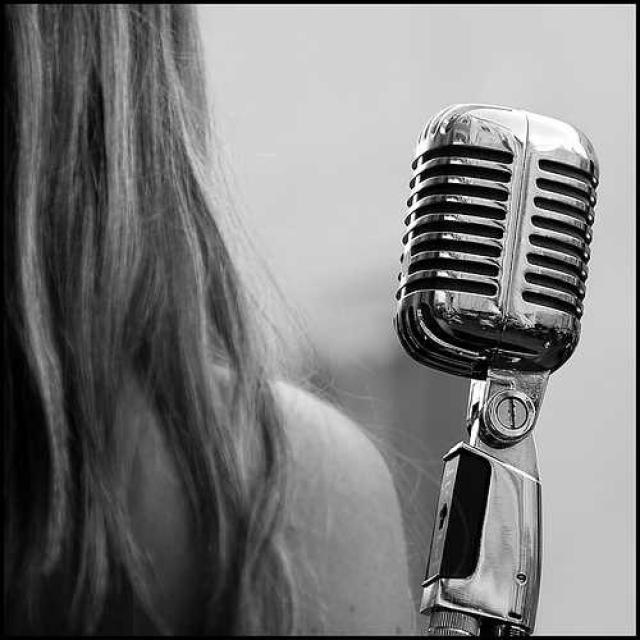microphone: (397, 104, 597, 381)
